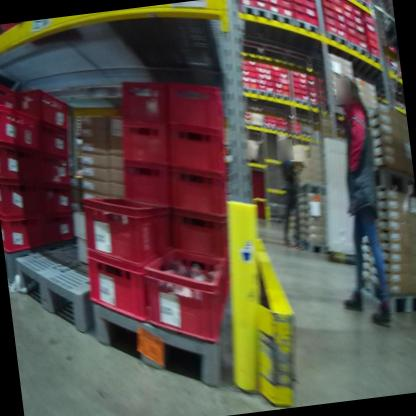pallet: (87, 277, 251, 405), (9, 227, 131, 338), (357, 268, 416, 325), (366, 163, 413, 202), (263, 3, 299, 50), (289, 13, 322, 53), (238, 0, 270, 41), (295, 232, 334, 262), (294, 174, 330, 203), (322, 27, 351, 59), (347, 39, 371, 65), (368, 51, 387, 73), (359, 0, 377, 19), (340, 0, 365, 10)
small_load_carrier: (140, 238, 243, 355), (79, 239, 192, 332), (77, 185, 185, 274), (164, 161, 232, 232), (167, 203, 241, 268), (163, 115, 228, 180), (164, 75, 227, 140), (115, 150, 175, 217), (116, 72, 170, 133), (119, 114, 173, 171), (15, 85, 73, 136), (0, 98, 42, 157), (0, 131, 38, 188), (0, 170, 42, 221), (0, 208, 45, 253), (33, 143, 73, 190), (37, 177, 76, 221), (0, 72, 30, 128), (41, 209, 79, 248), (35, 120, 70, 162)
